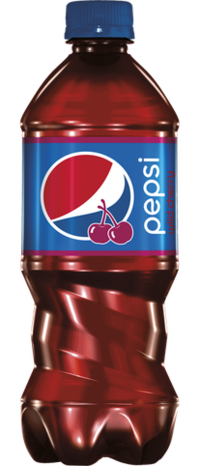pepsi: (41, 145, 135, 240), (39, 150, 135, 240), (41, 150, 135, 240)
